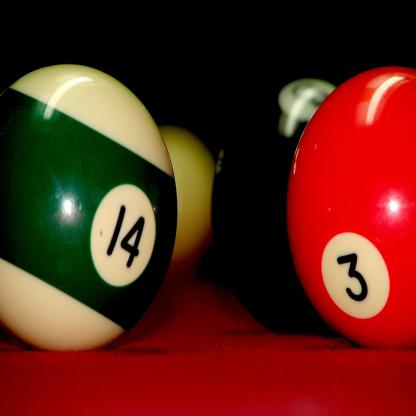Ball: (0, 61, 179, 354), (286, 68, 416, 351), (209, 76, 336, 334), (160, 126, 216, 284)
